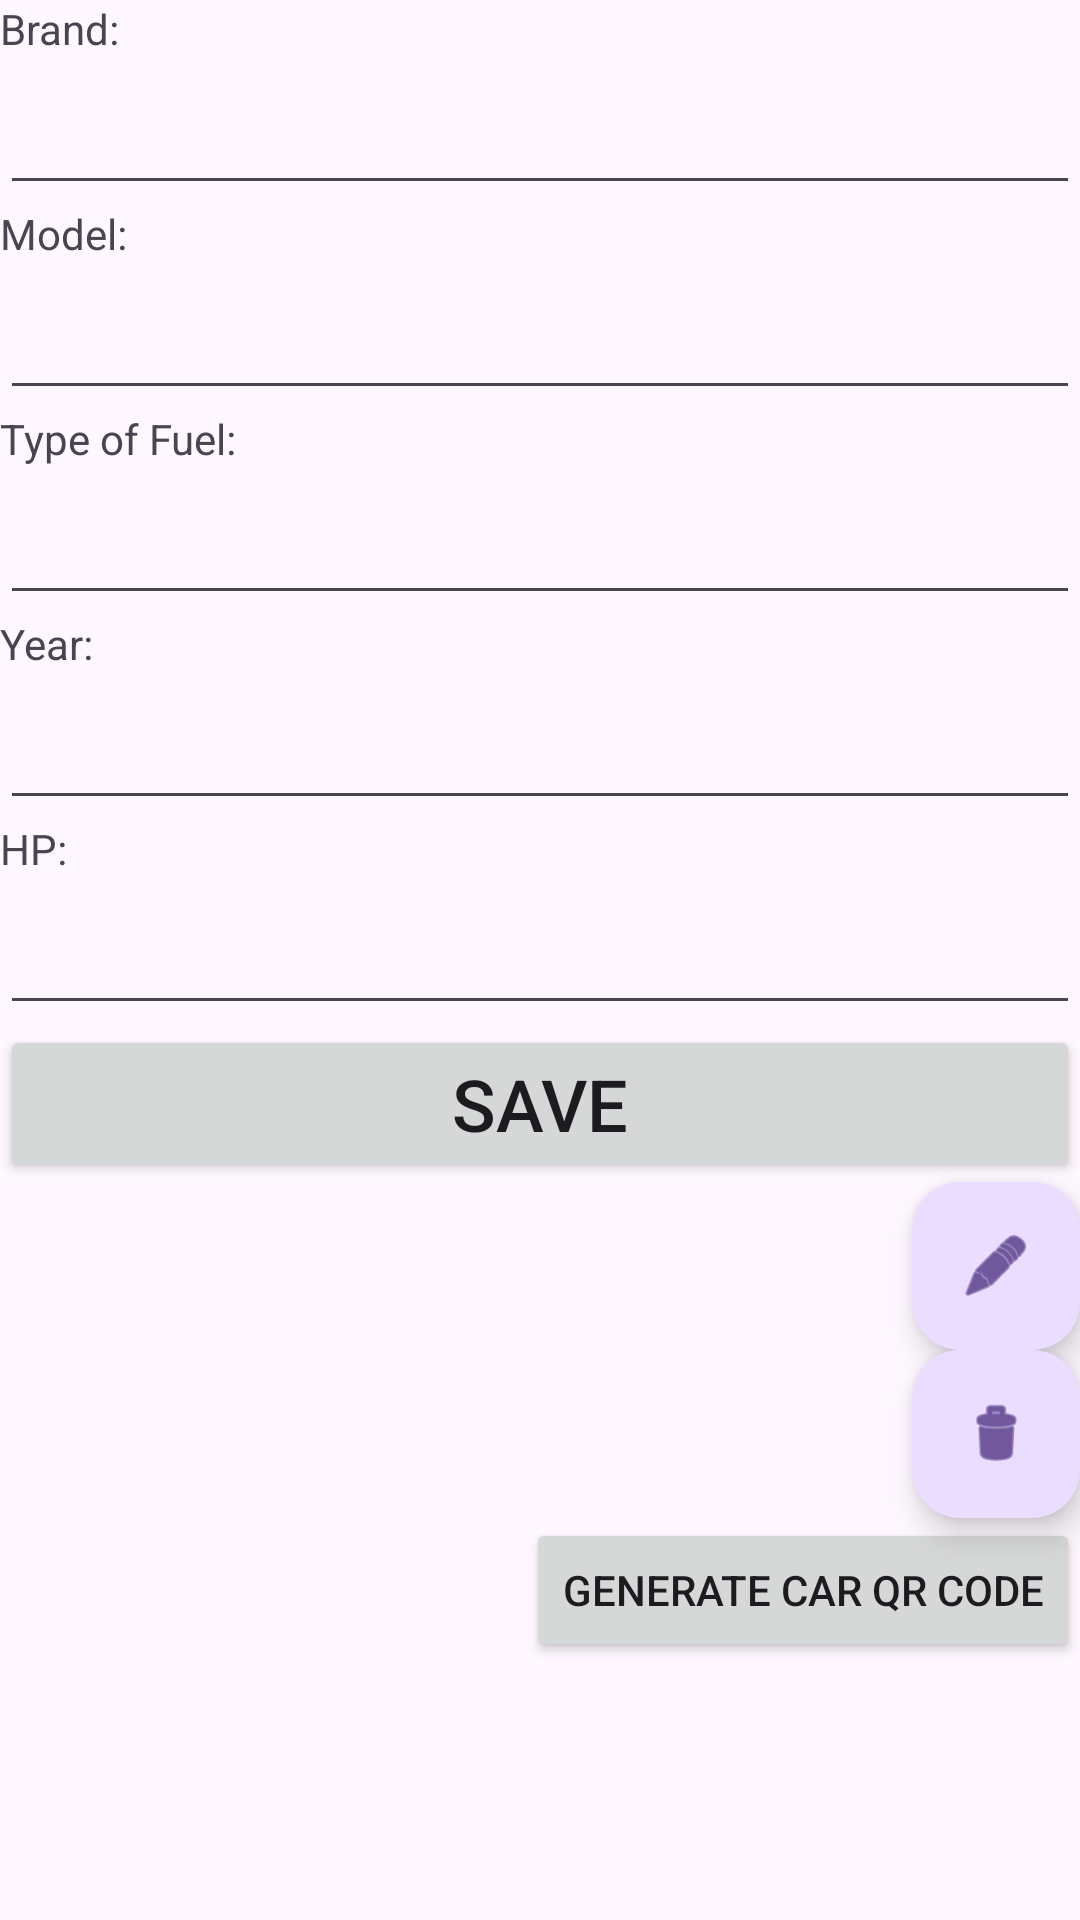

Point at icon controls on the screen. Image size 1080w x 1920h, points as (x,y).
edit: (996,1266)
